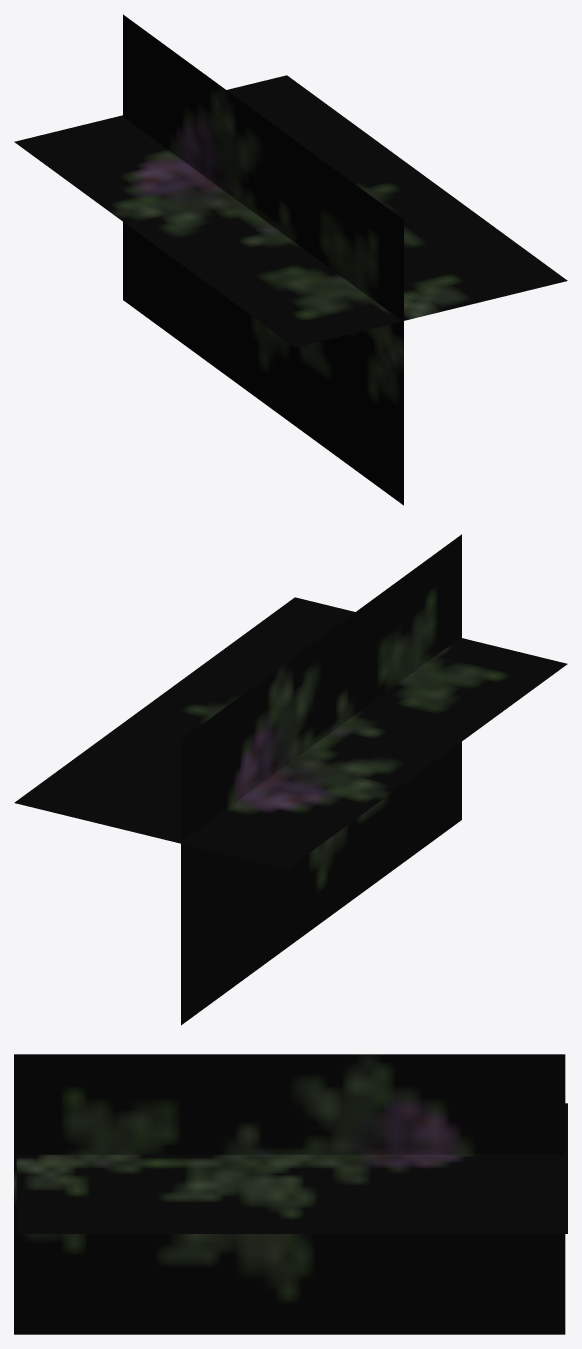
File: SM_EC_Plant_Card_Cross_17.fbx
3 renders of one model, top to bottom at view 1: azimuth 30°, elevation 25°; view 2: azimuth 150°, elevation 25°; view 3: azimuth 270°, elevation 25°, orthographic.
Parts seen in each view (by area): view 1: SM_EC_Plant_Card_Cross_17; view 2: SM_EC_Plant_Card_Cross_17; view 3: SM_EC_Plant_Card_Cross_17.
Boxes of the visible parts, box(x1,y1,x2,y2) form: SM_EC_Plant_Card_Cross_17: box(14, 14, 567, 505); SM_EC_Plant_Card_Cross_17: box(14, 534, 567, 1025); SM_EC_Plant_Card_Cross_17: box(14, 1054, 567, 1334).
Size of the model in its own units: 0.3608 by 0.6464 by 0.3608.
